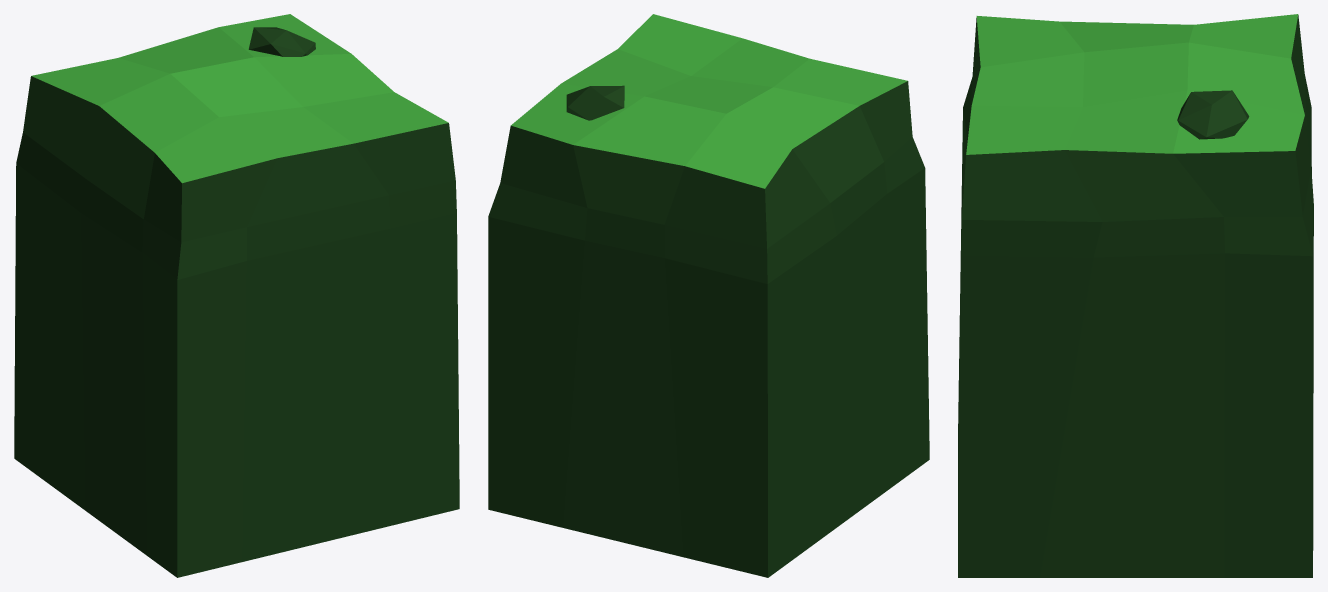
File: TileWall_03.fbx
The picture shows the model from 3 angles, left to right: view 1: azimuth 30°, elevation 25°; view 2: azimuth 150°, elevation 25°; view 3: azimuth 270°, elevation 25°; orthographic projection. The views are drawn at different scales.
Visible parts, largest first — view 1: WallTile_03; view 2: WallTile_03; view 3: WallTile_03.
Part boxes in pixels (bbox=[...]): WallTile_03: bbox=[14, 14, 459, 577]; WallTile_03: bbox=[488, 14, 929, 577]; WallTile_03: bbox=[958, 14, 1313, 577].
Size of the model in its own units: 101 by 138 by 100.
